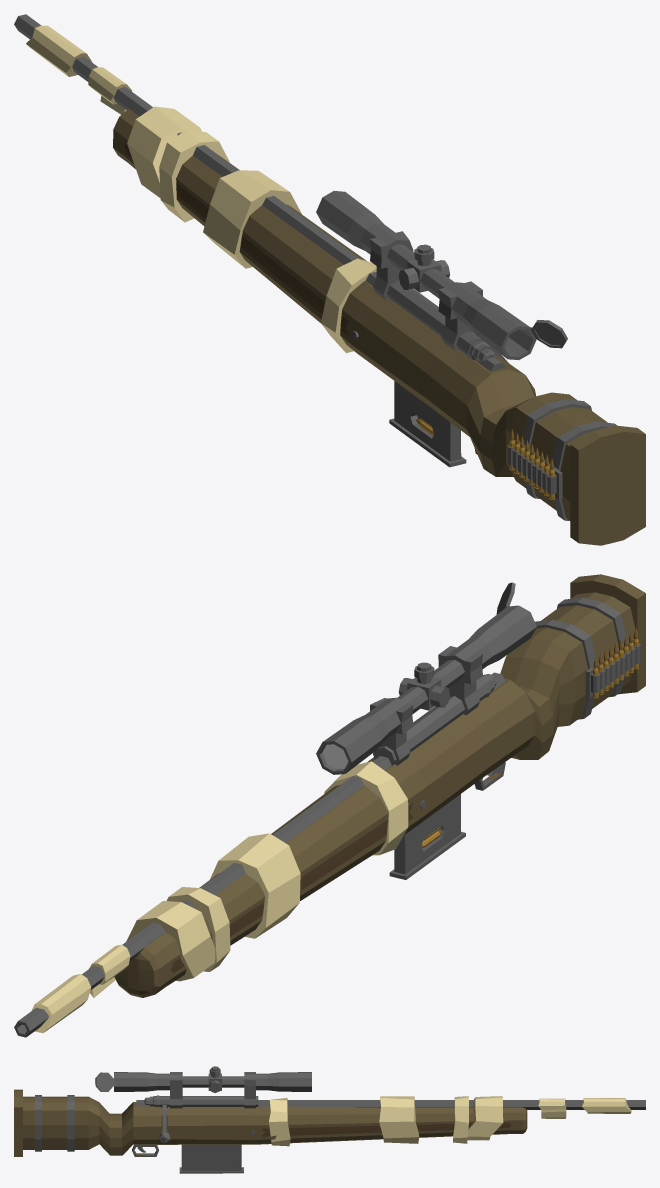
3 views of the same model, one above another, from view 1: azimuth 30°, elevation 25°; view 2: azimuth 150°, elevation 25°; view 3: azimuth 270°, elevation 25° (orthographic). The views are drawn at different scales.
Visible parts, largest first — view 1: Body.004, Scope.002, Wrap 1, Cylinder.002, Wrap 3, Mag.002, Wrap 2, Wrap 1.003, Bullets.002, Wrap 1.002, Wrap 1.001; view 2: Body.004, Scope.002, Wrap 1, Cylinder.002, Wrap 3, Mag.002, Wrap 1.003, Bullets.002, Wrap 2, Wrap 1.002, Wrap 1.001; view 3: Body.004, Scope.002, Cylinder.002, Mag.002, Wrap 1, Wrap 3, Wrap 1.003, Wrap 1.002, Wrap 2, Wrap 1.001.
Part boxes in pixels (box(x1,y1,x2,y2)): Body.004: box(113, 109, 645, 545); Scope.002: box(316, 191, 567, 362); Wrap 1: box(203, 170, 301, 268); Cylinder.002: box(14, 14, 505, 371); Wrap 3: box(127, 106, 201, 198); Mag.002: box(389, 381, 466, 467); Wrap 2: box(159, 129, 229, 222); Wrap 1.003: box(321, 258, 376, 353); Bullets.002: box(416, 416, 556, 499); Wrap 1.002: box(26, 25, 91, 76); Wrap 1.001: box(88, 67, 132, 114); Body.004: box(114, 574, 645, 997); Scope.002: box(316, 582, 536, 774); Wrap 1: box(210, 833, 300, 938); Cylinder.002: box(14, 672, 505, 1037); Wrap 3: box(126, 901, 215, 981); Mag.002: box(389, 794, 465, 879); Wrap 1.003: box(324, 761, 408, 855); Bullets.002: box(421, 628, 640, 847); Wrap 2: box(166, 887, 230, 971); Wrap 1.002: box(31, 974, 91, 1032); Wrap 1.001: box(89, 944, 130, 997); Body.004: box(14, 1089, 527, 1156); Scope.002: box(95, 1066, 311, 1142); Cylinder.002: box(136, 1100, 645, 1109); Mag.002: box(179, 1144, 243, 1173); Wrap 1: box(379, 1096, 419, 1143); Wrap 3: box(467, 1096, 503, 1140); Wrap 1.003: box(269, 1097, 290, 1146); Wrap 1.002: box(582, 1098, 631, 1113); Wrap 2: box(453, 1096, 468, 1143); Wrap 1.001: box(538, 1098, 566, 1118).
Size of the model in its own units: 280 by 526 by 2902.
